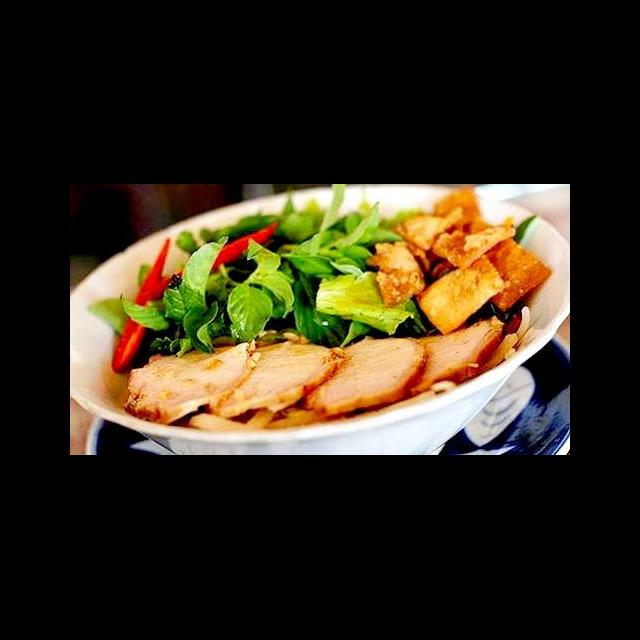banh da: (430, 186, 553, 316), (410, 252, 510, 340), (389, 205, 470, 278), (429, 212, 520, 274), (362, 237, 429, 310)
mi: (178, 404, 356, 436), (479, 303, 534, 377)
mi quang: (74, 201, 570, 456)
thit heo: (120, 333, 260, 428), (201, 334, 351, 422), (297, 332, 432, 420), (396, 312, 507, 401)
